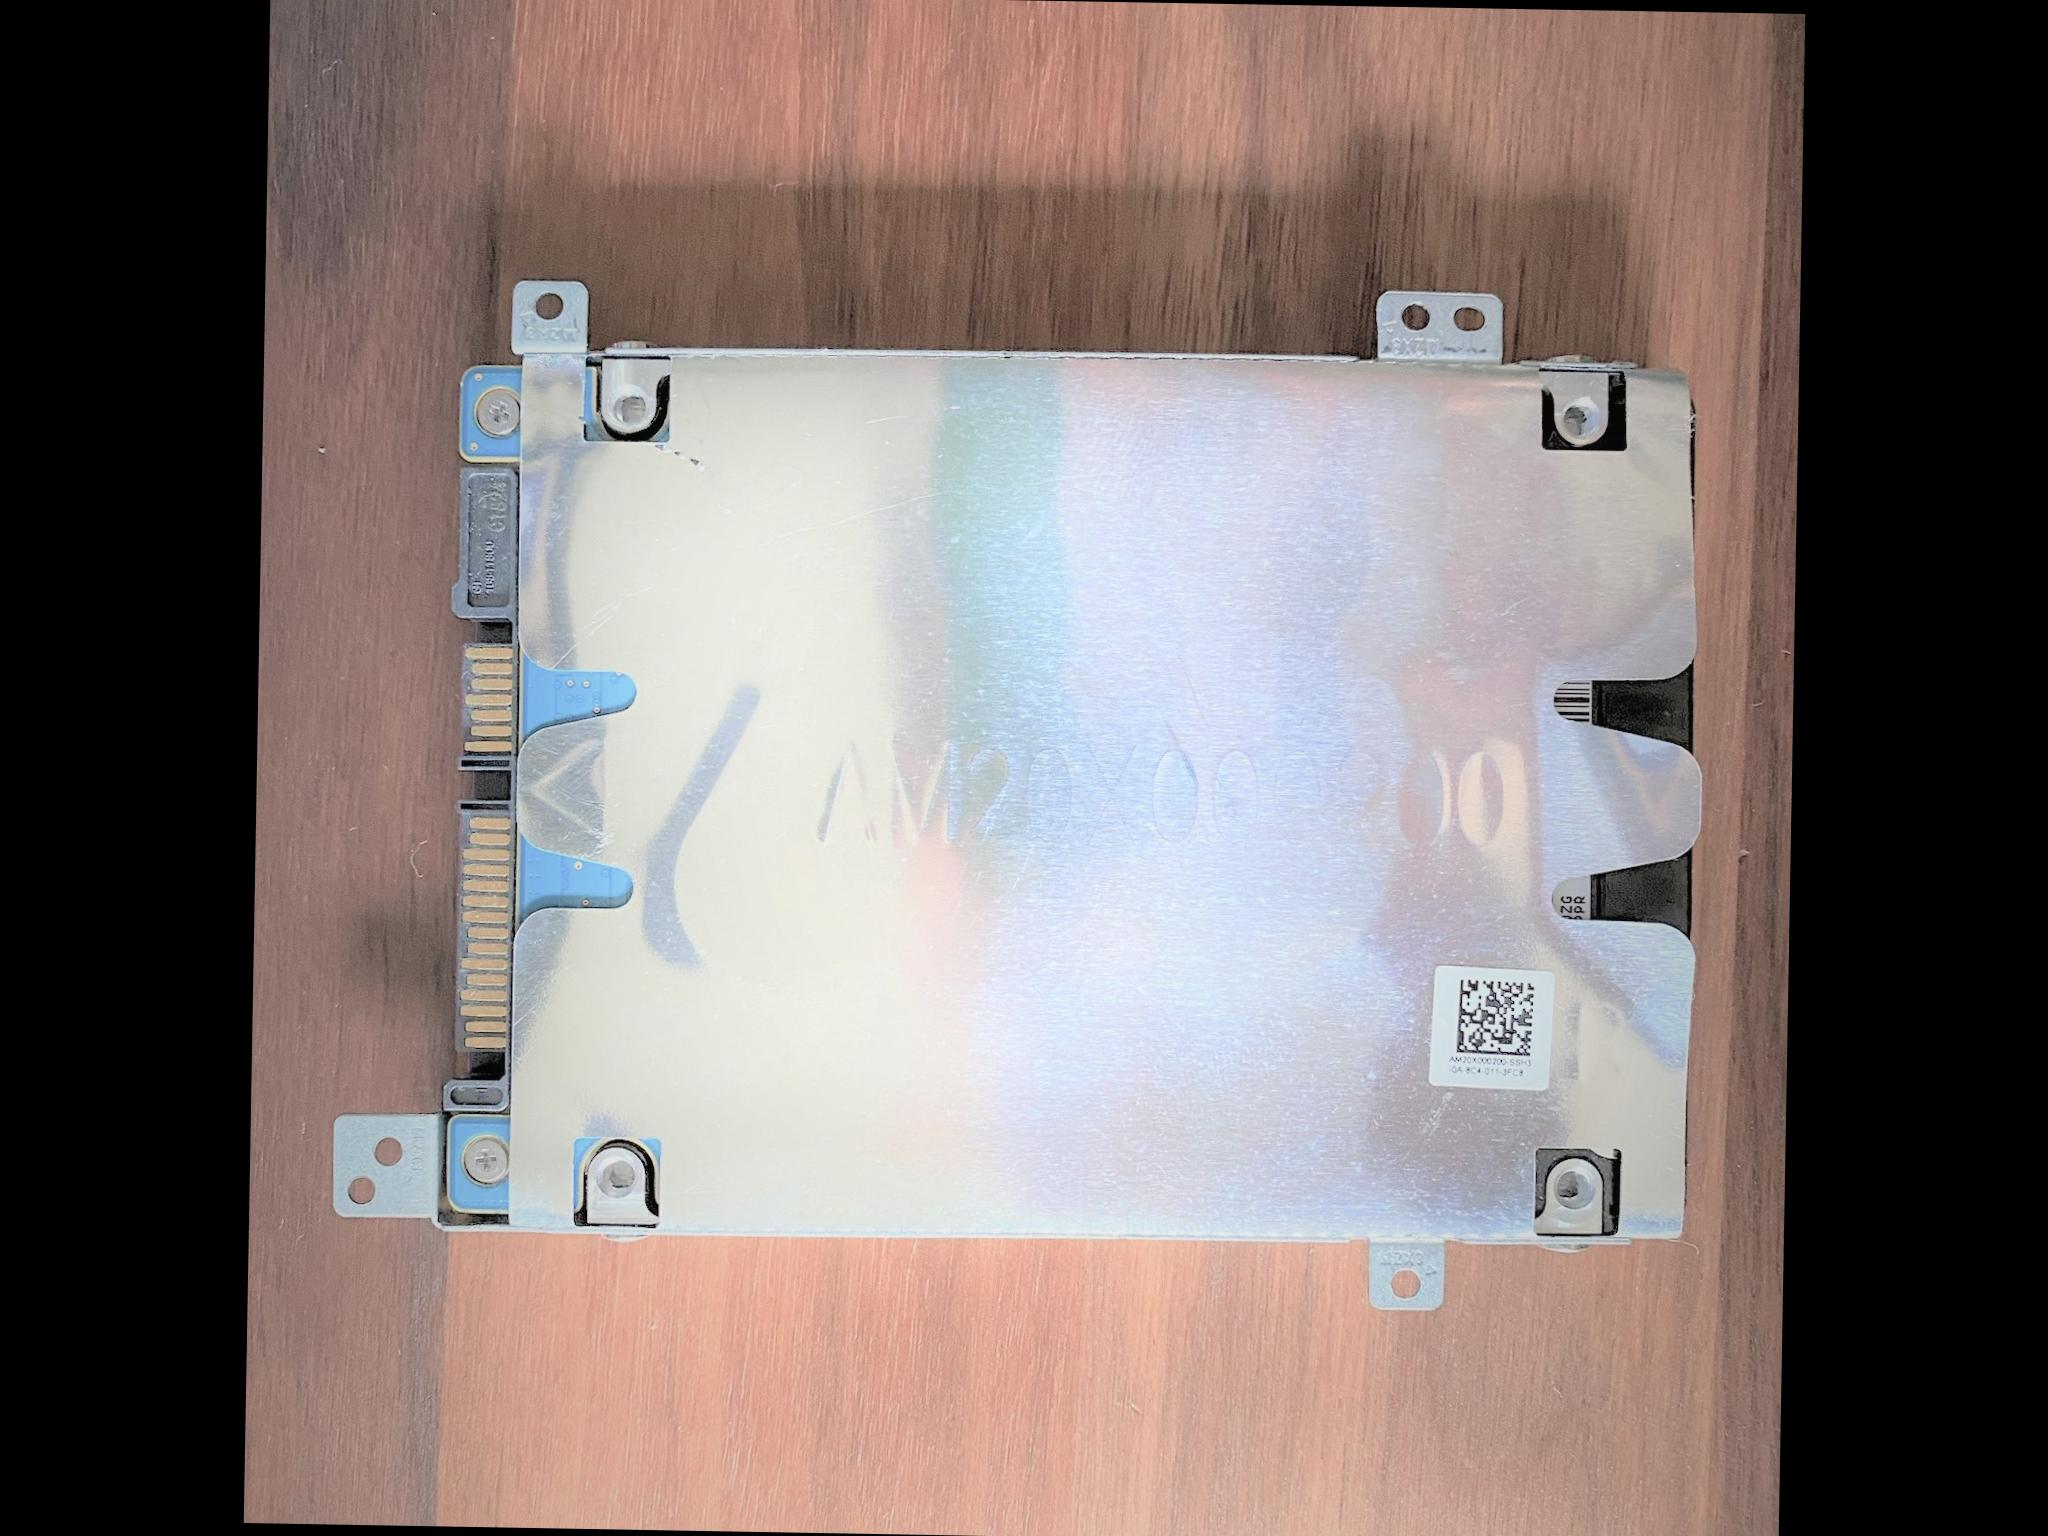PH: (472, 386, 524, 439), (461, 1134, 510, 1187)
